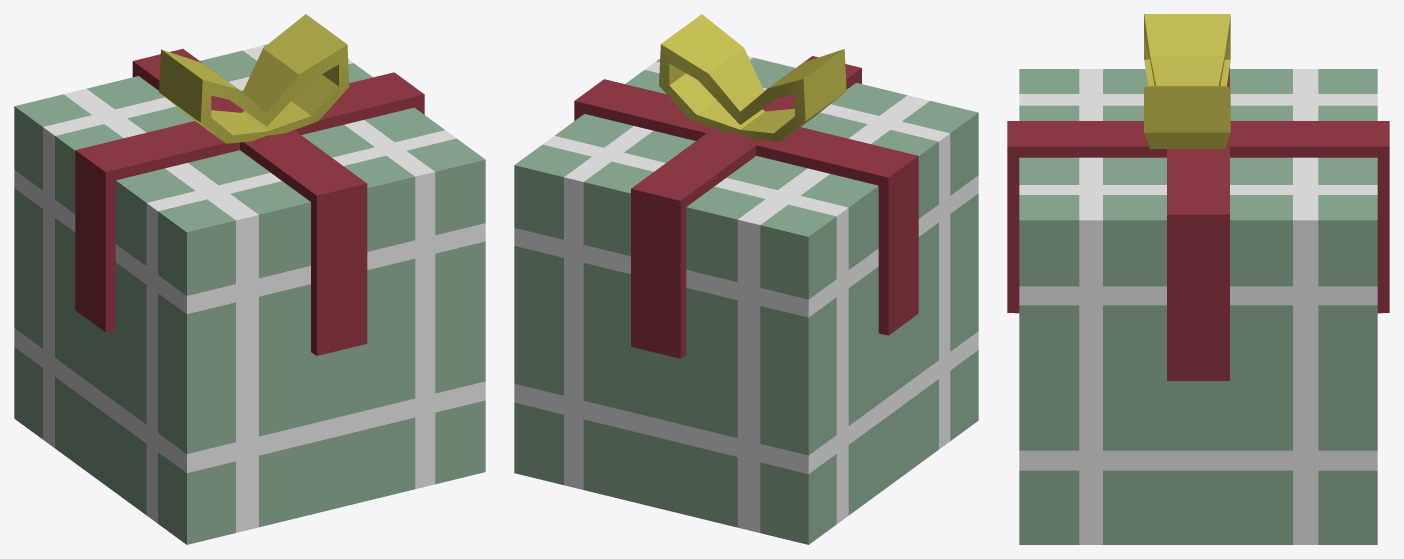
File: Caja Navideña 2.fbx
The picture shows the model from 3 angles, left to right: view 1: azimuth 30°, elevation 25°; view 2: azimuth 150°, elevation 25°; view 3: azimuth 270°, elevation 25°; orthographic projection. The views are drawn at different scales.
Visible parts, largest first — view 1: fes_Caja_tipo_2, Moñito_2; view 2: fes_Caja_tipo_2, Moñito_2; view 3: fes_Caja_tipo_2, Moñito_2.
Part boxes in pixels (x1=…): fes_Caja_tipo_2: x1=14, y1=44, x2=485, y2=544; Moñito_2: x1=159, y1=14, x2=349, y2=143; fes_Caja_tipo_2: x1=514, y1=56, x2=978, y2=544; Moñito_2: x1=659, y1=14, x2=846, y2=141; fes_Caja_tipo_2: x1=1007, y1=67, x2=1389, y2=544; Moñito_2: x1=1144, y1=14, x2=1230, y2=148.
Size of the model in its own units: 1.07 by 1.29 by 1.07.
